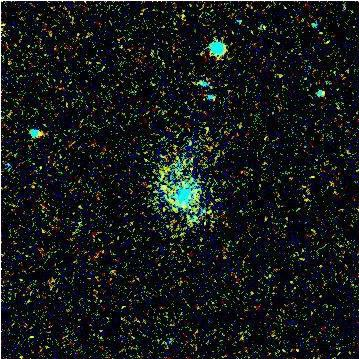star: (149, 178, 179, 208)
